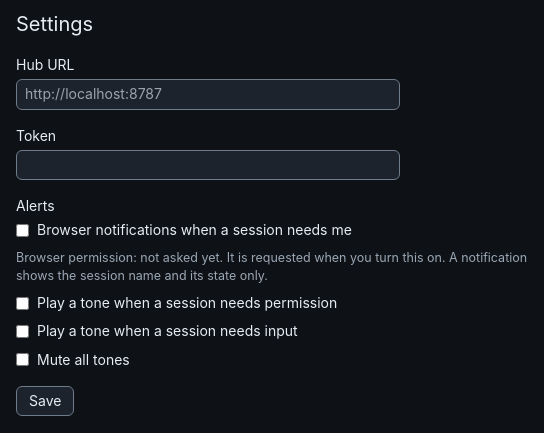
Test: Settings alerts › requests permission from the toggle (a user gesture) and shows the result
Expected: the text with test id "notification-permission" shows "not asked yet", [16,250,446,265]
Step 1. Click the checkbox labelled "Browser notifications when a session needs me" → (22, 231), box [16,224,29,237]
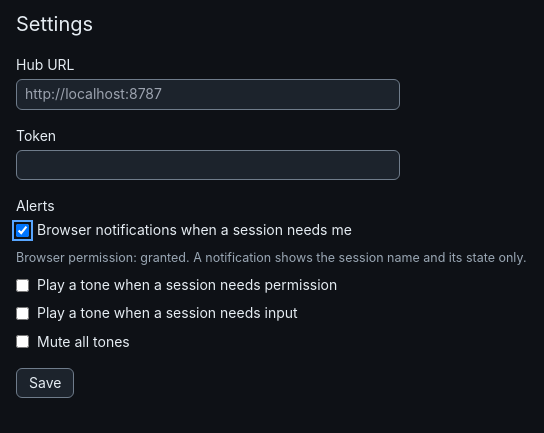
Result: the text "permission: granted" is shown at [16,250,190,265]
